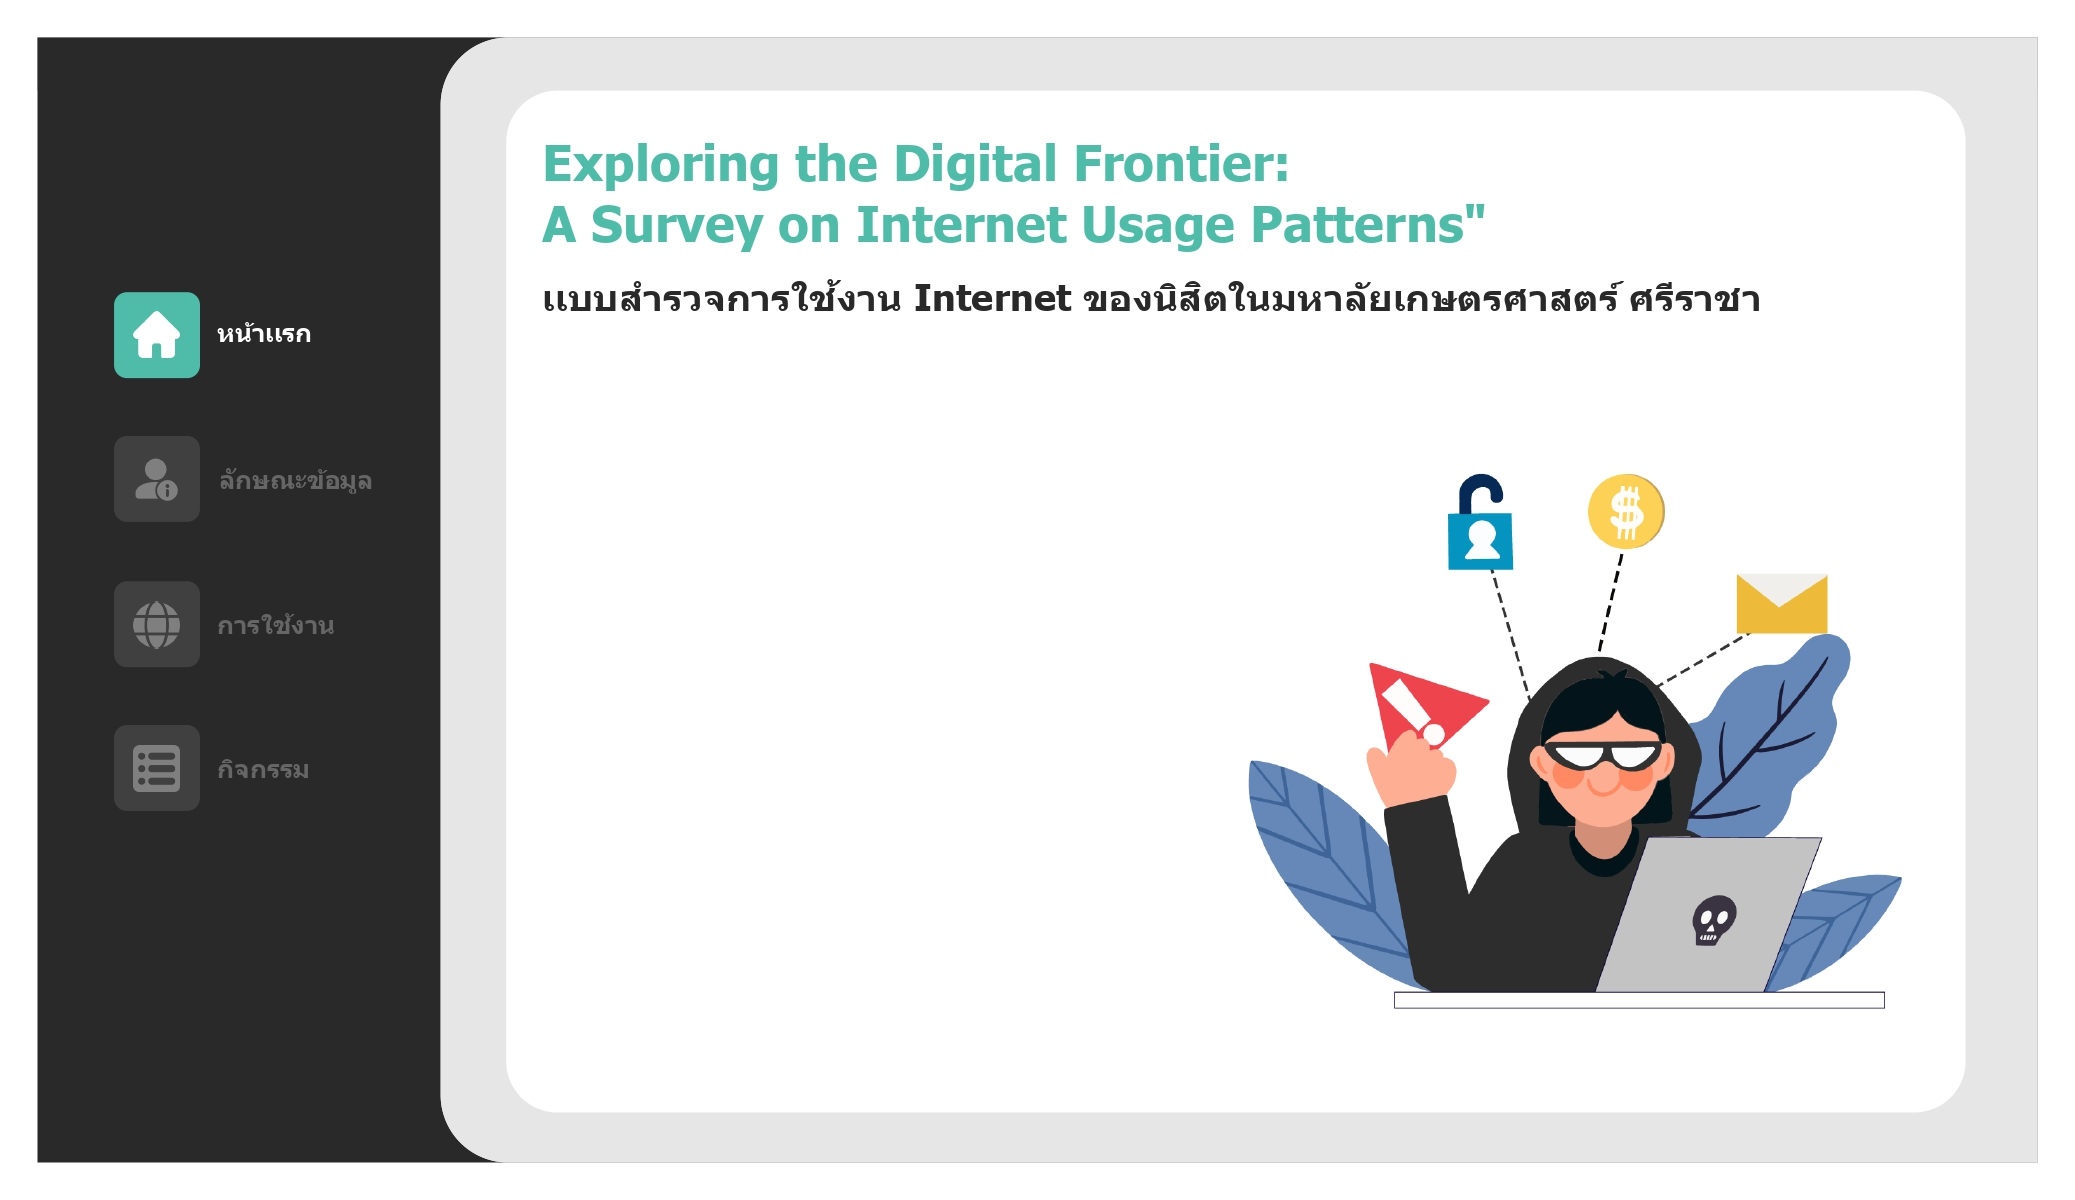

This screenshot's page, from the dashboard's own definition file:
{"tool":"powerbi","page":{"name":"หน้าเเรก","canvas":[1280,720],"ordinal":0},"visuals":[{"type":"shape","box":[49.2,255,55,55],"z":0},{"type":"shape","box":[49.2,347.5,55,55],"z":1000},{"type":"shape","box":[49.2,440,55,55],"z":2000},{"type":"shape","box":[49.2,162.5,55,55],"z":3000},{"type":"textbox","box":[564.1,136.2,260.7,108],"z":4000},{"type":"shape","box":[258,0,1022,720],"z":5000},{"type":"shape","box":[299.7,33.7,934.1,654.4],"z":6000},{"type":"image","box":[56.1,170.1,40.3,40.3],"z":7000},{"type":"image","box":[56.1,262.2,40.3,40.3],"z":8000},{"type":"image","box":[56.1,355.2,40.3,40.3],"z":9000},{"type":"image","box":[56.1,447.3,40.3,40.3],"z":10000},{"type":"actionButton","box":[111.5,168,99.9,40.5],"z":11000},{"type":"actionButton","box":[111.5,354.8,149.1,40.5],"z":12000},{"type":"actionButton","box":[111.5,447.4,149.1,40.5],"z":13000},{"type":"actionButton","box":[111.9,261.6,148.8,40.9],"z":14000},{"type":"textbox","box":[318.1,55.4,692.5,180.9],"z":15000},{"type":"textbox","box":[318.1,145.9,876.4,61.3],"z":16000},{"type":"image","box":[735.3,217.9,498,501.9],"z":17000}]}

Visuals, with their boxes on the page's 1280x720 design canvas (x1, y1, x2, y2). These are canvas units, not pixel positions in the 2075x1200 screenshot, which may show the page scaled, cropped or inside an application window:
shape: <bbox>49, 255, 104, 310</bbox>
shape: <bbox>49, 348, 104, 402</bbox>
shape: <bbox>49, 440, 104, 495</bbox>
shape: <bbox>49, 162, 104, 218</bbox>
textbox: <bbox>564, 136, 825, 244</bbox>
shape: <bbox>258, 0, 1280, 720</bbox>
shape: <bbox>300, 34, 1234, 688</bbox>
image: <bbox>56, 170, 96, 210</bbox>
image: <bbox>56, 262, 96, 302</bbox>
image: <bbox>56, 355, 96, 396</bbox>
image: <bbox>56, 447, 96, 488</bbox>
actionButton: <bbox>112, 168, 211, 208</bbox>
actionButton: <bbox>112, 355, 261, 395</bbox>
actionButton: <bbox>112, 447, 261, 488</bbox>
actionButton: <bbox>112, 262, 261, 302</bbox>
textbox: <bbox>318, 55, 1011, 236</bbox>
textbox: <bbox>318, 146, 1194, 207</bbox>
image: <bbox>735, 218, 1233, 720</bbox>
